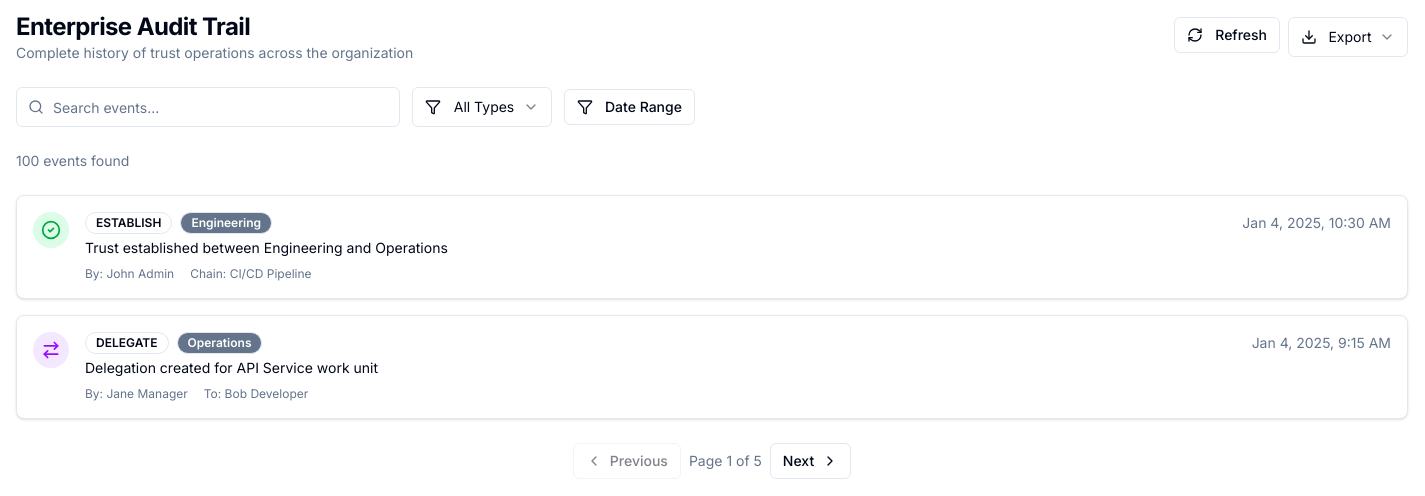
Scenario: EnterpriseAuditTrail › filters › should show clear filters button when filters are active
// Type in search to activate filter
Type "test" into the field with placeholder "Search events..." at (208, 107), box x1=16 y1=87 x2=400 y2=127
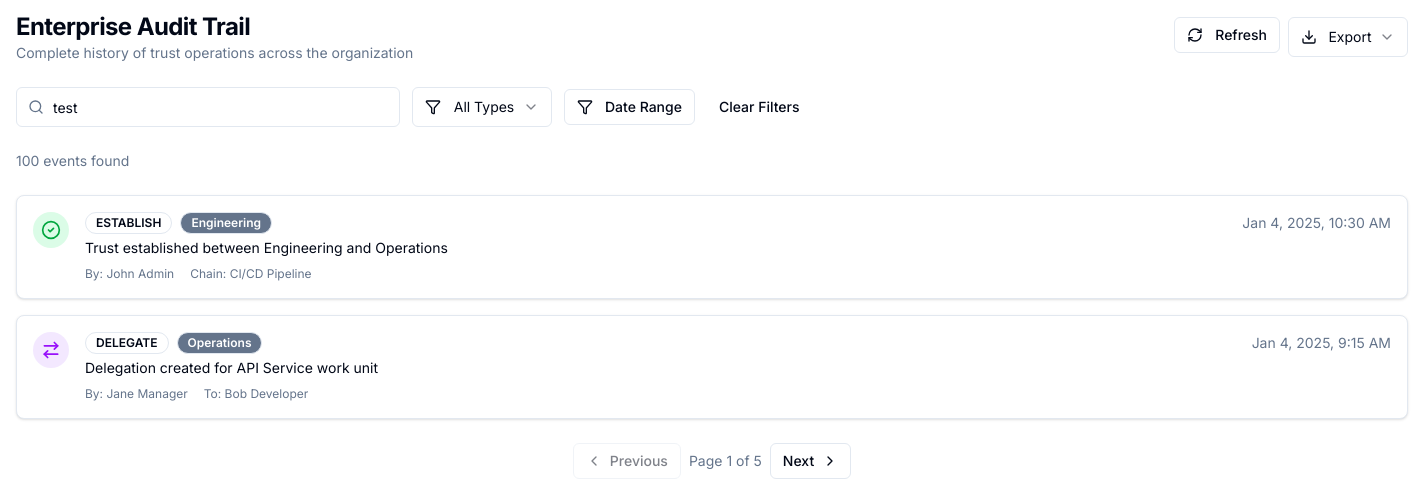
Expected: the button "Clear Filters" is shown, x1=707 y1=89 x2=812 y2=125
